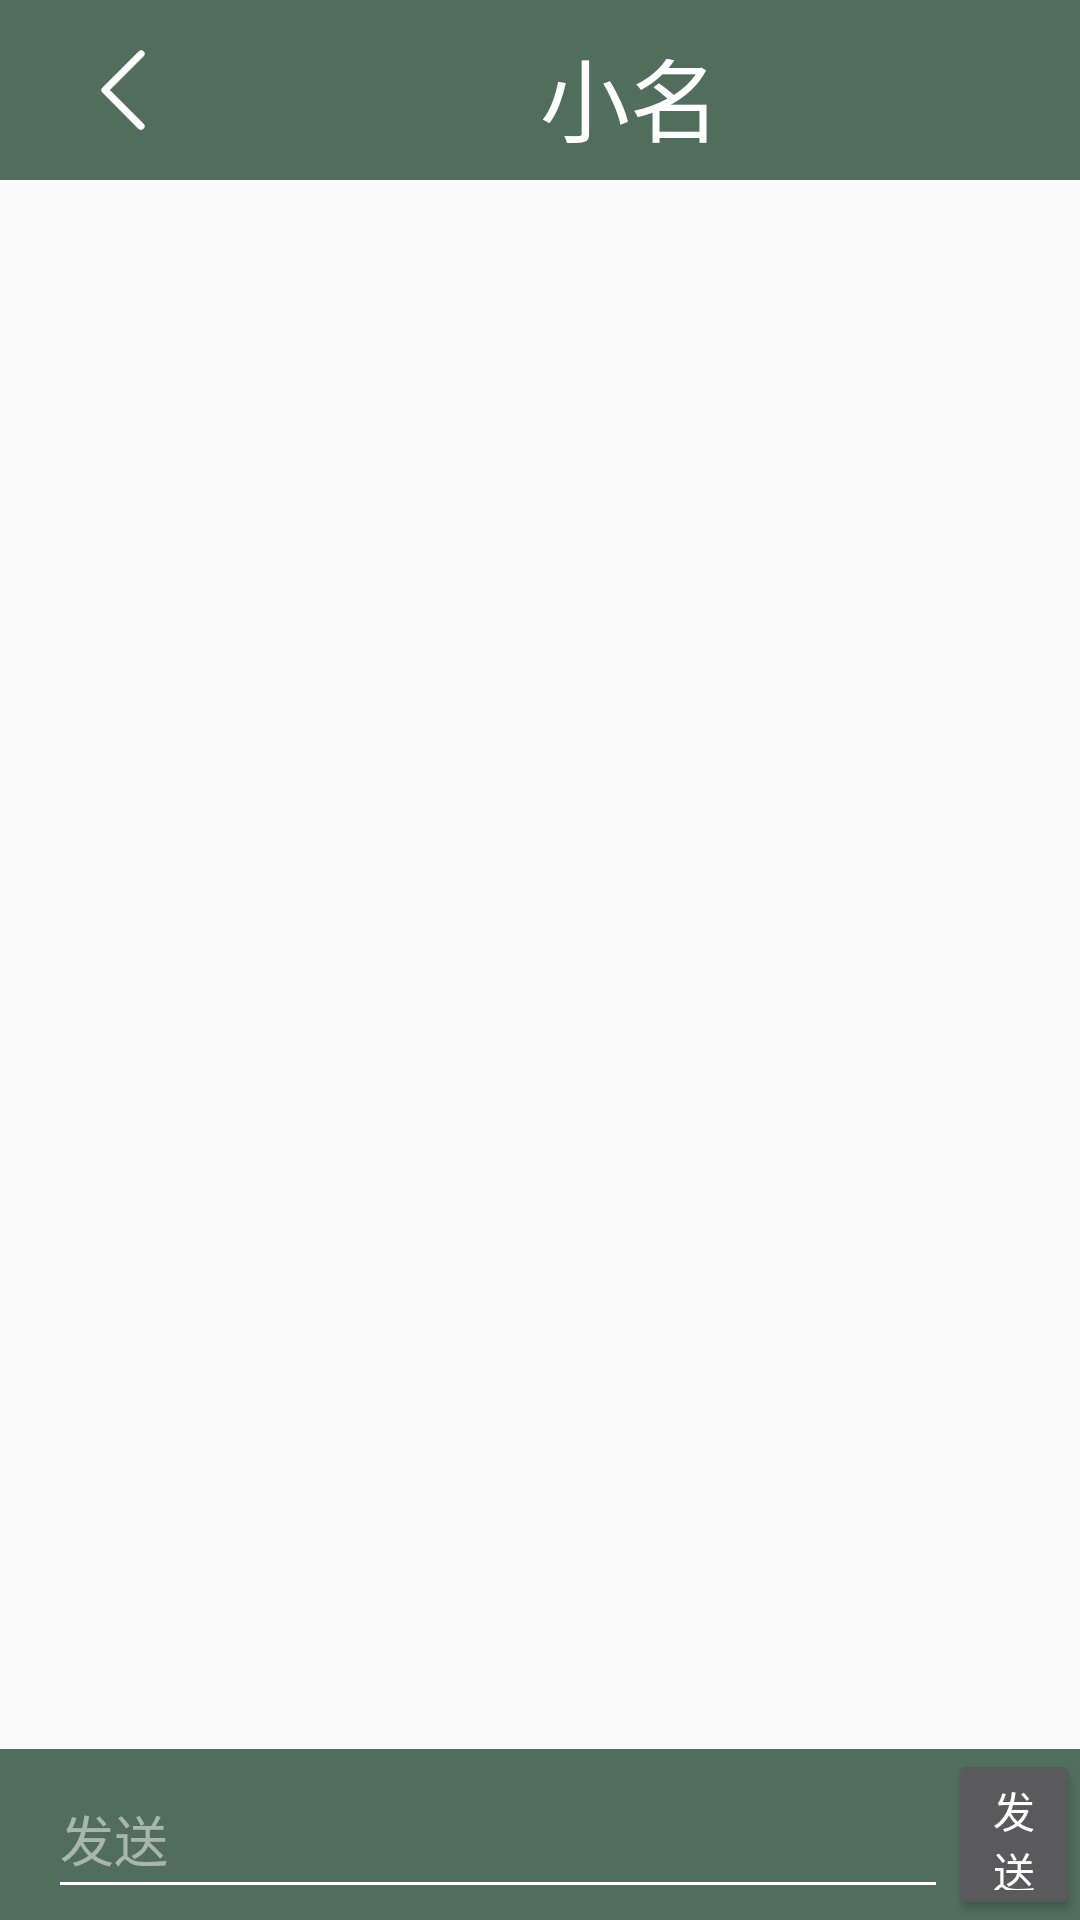

Icon bounding boxes for this 1080 × 1920 phone screenshot, format (x1, y1, x2, y2):
houtui: (101, 50, 145, 130)
